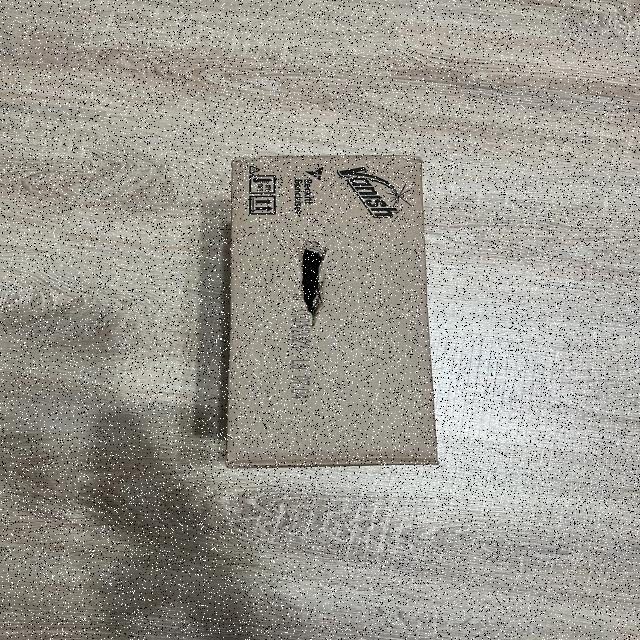damaged: (216, 144, 448, 472), (288, 230, 337, 355)
